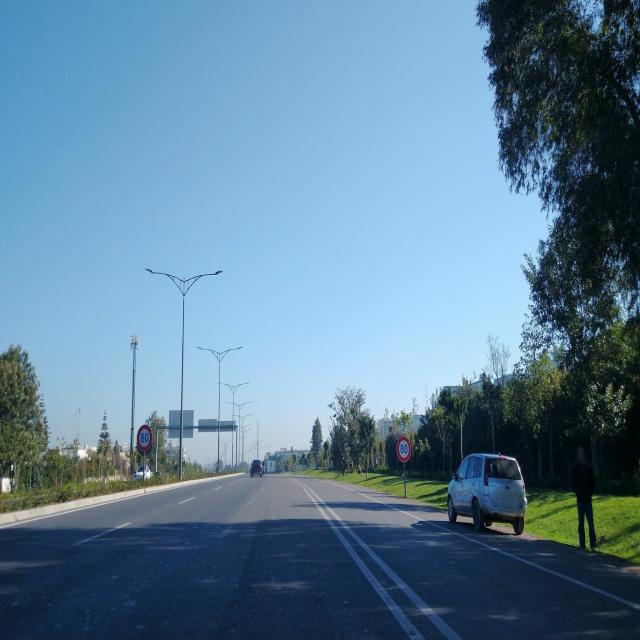car: (446, 451, 527, 535), (250, 458, 264, 478)
